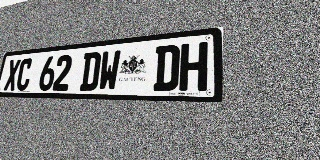2: (52, 54, 73, 91)
6: (38, 56, 57, 91)
C: (15, 58, 33, 91)
D: (153, 44, 180, 91), (79, 52, 102, 91)
H: (179, 42, 208, 91)
W: (97, 50, 121, 91)
X: (3, 59, 21, 91)
